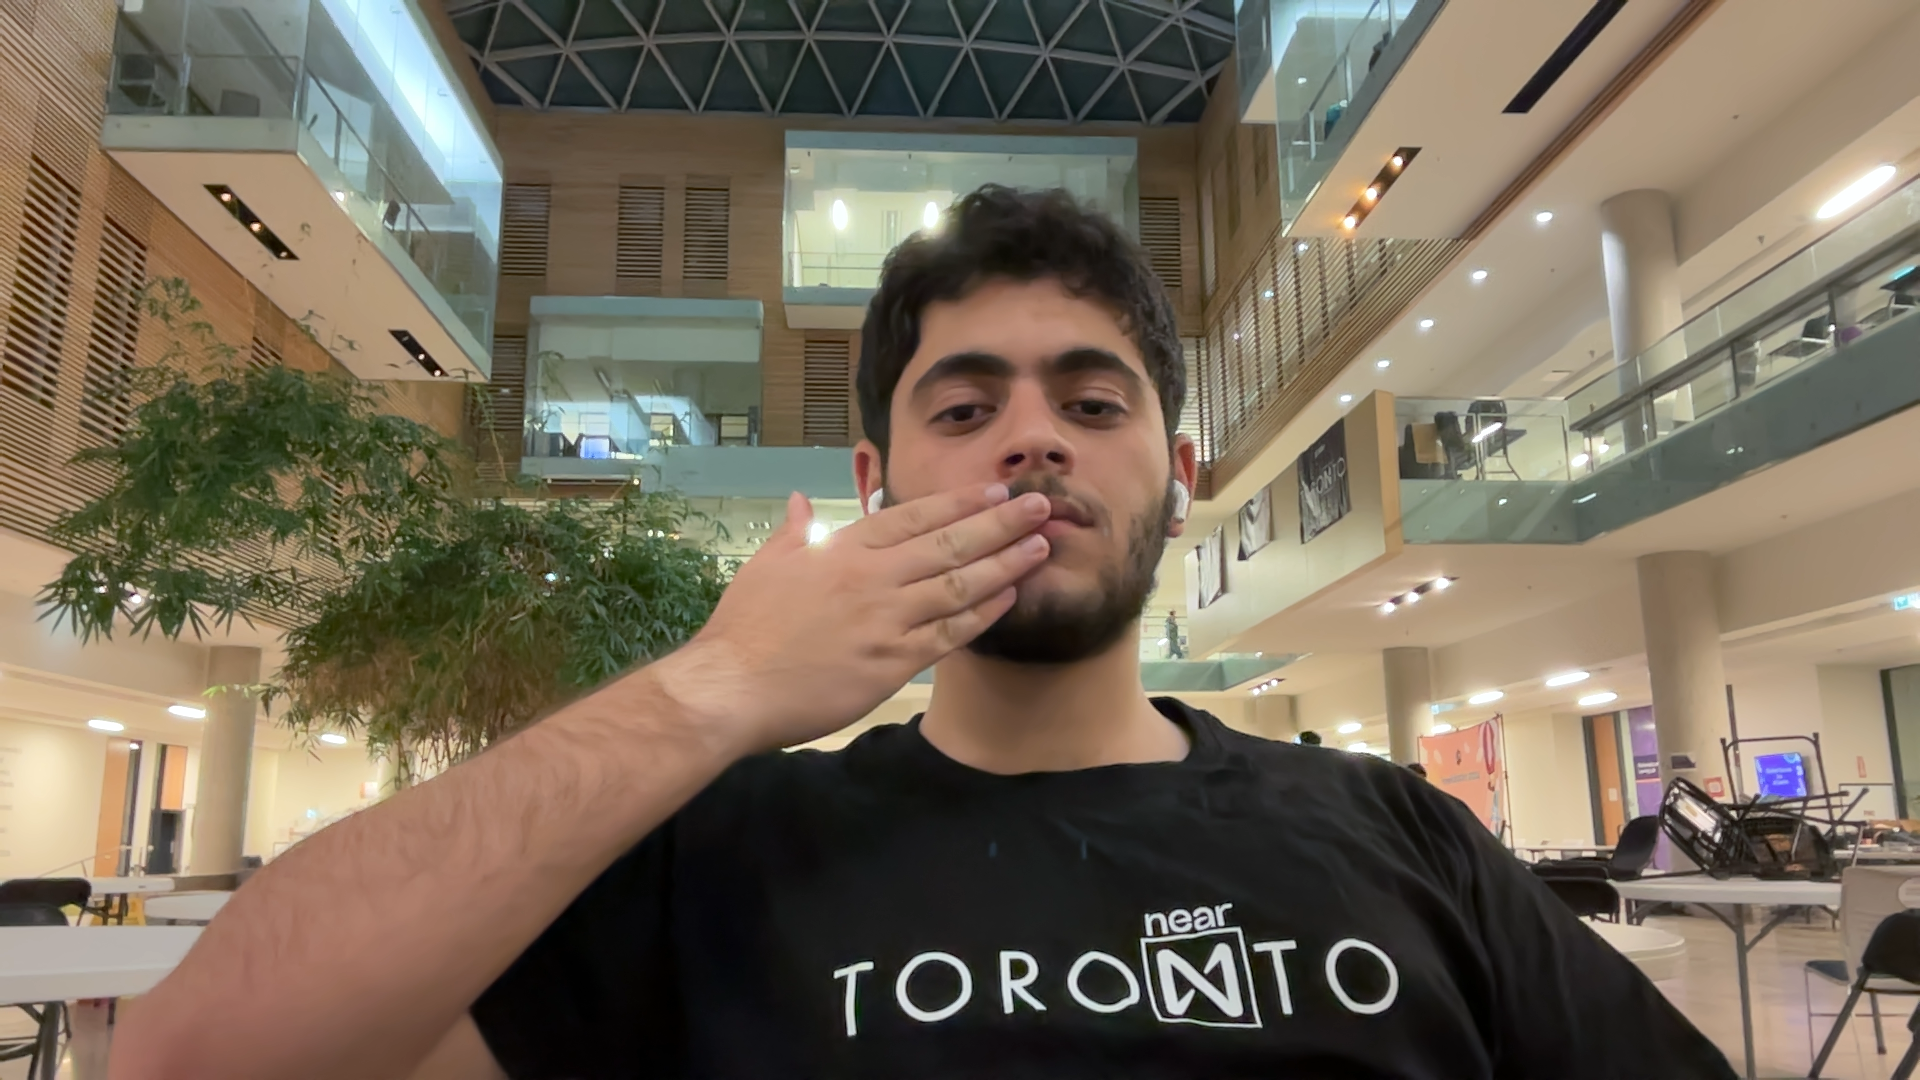thank you: (676, 235, 1267, 742)
